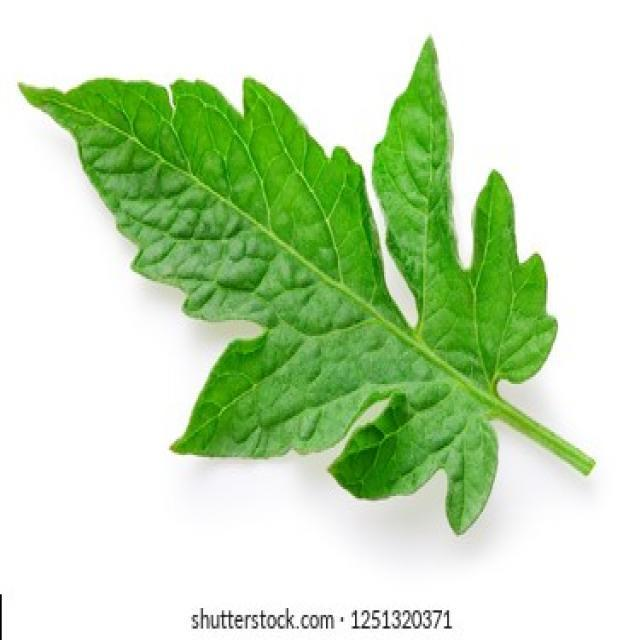Healthy Leaf: (21, 35, 562, 535)
